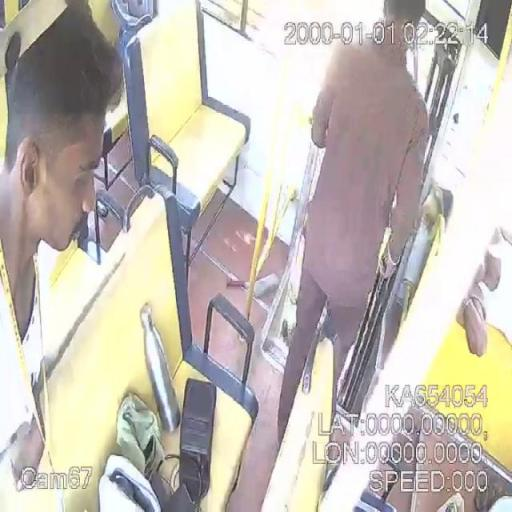persona: (274, 0, 432, 446), (0, 1, 126, 510)
